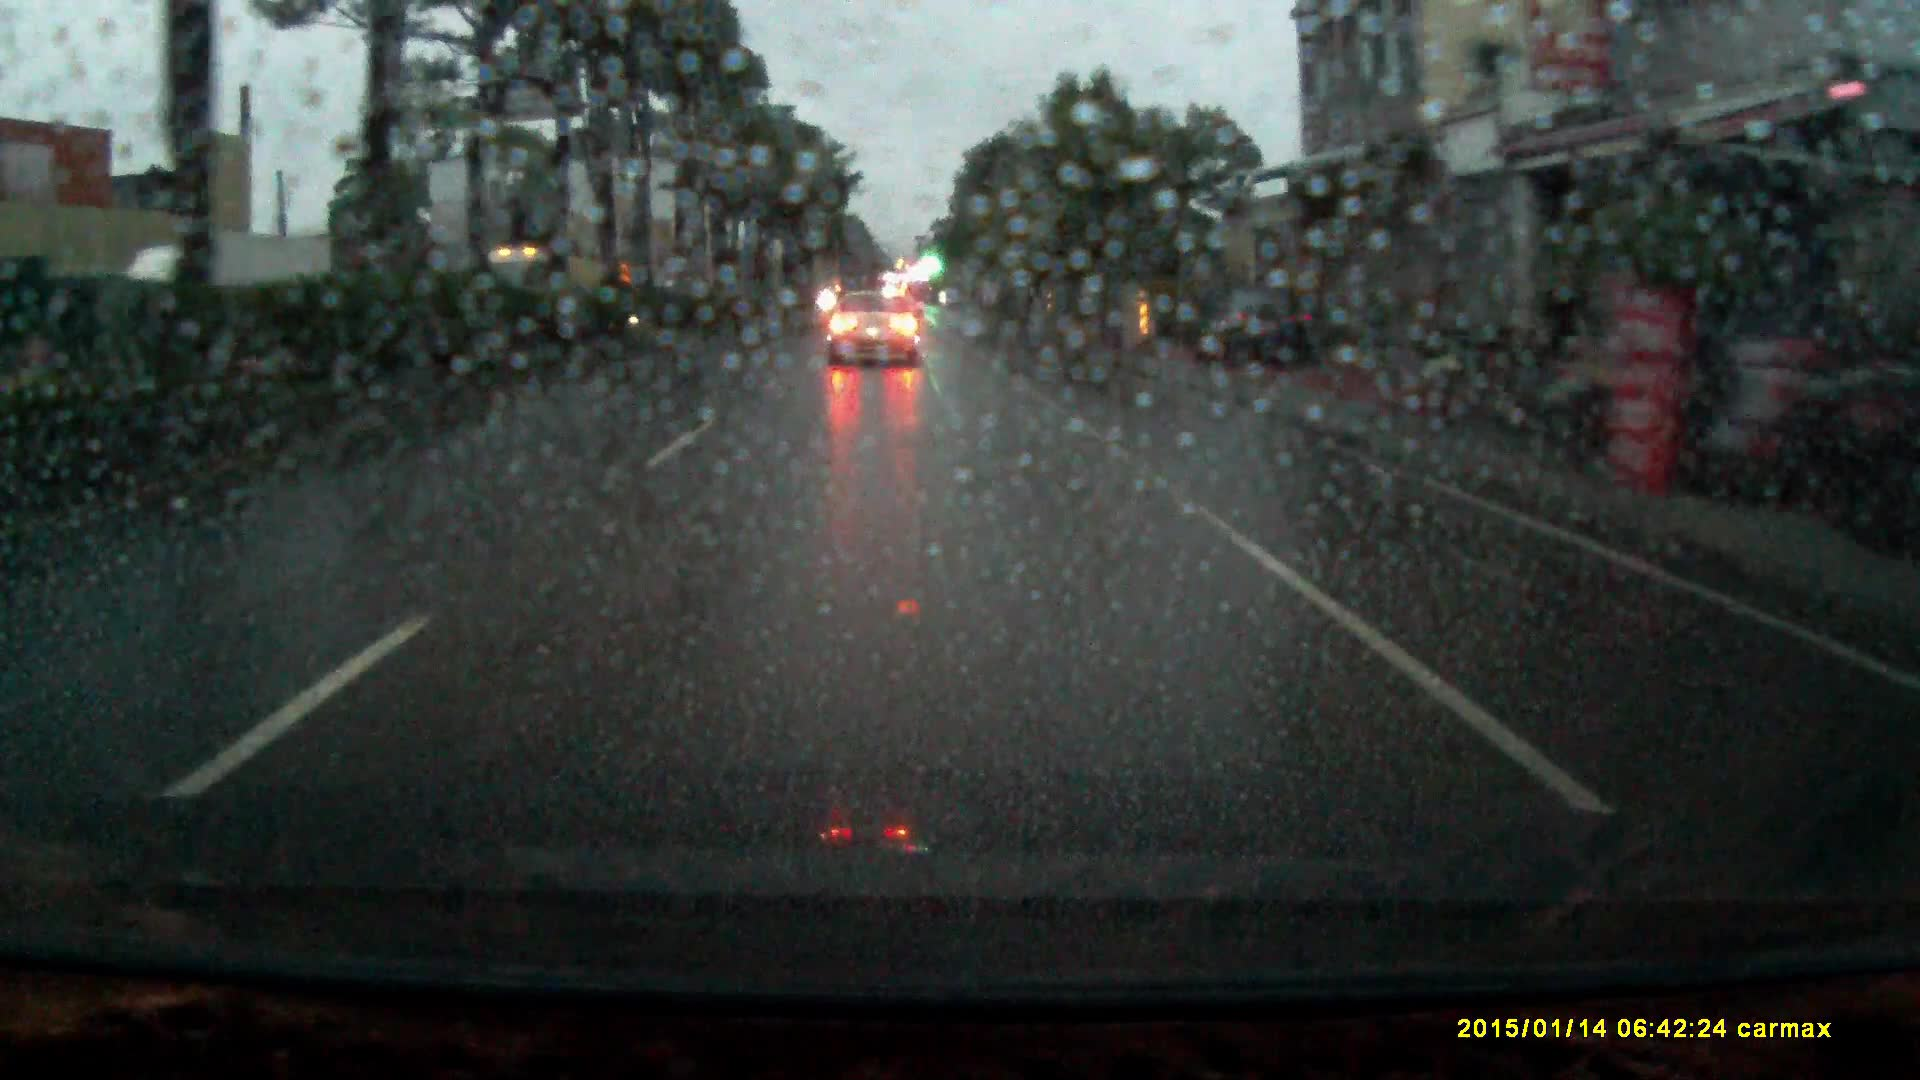vehicle: (123, 233, 332, 380), (468, 249, 609, 320), (1197, 301, 1317, 378), (825, 301, 924, 378)
